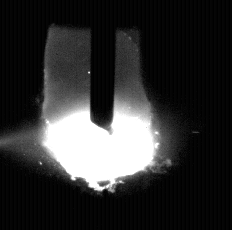arame: (90, 0, 115, 136)
poca: (41, 0, 158, 230)
